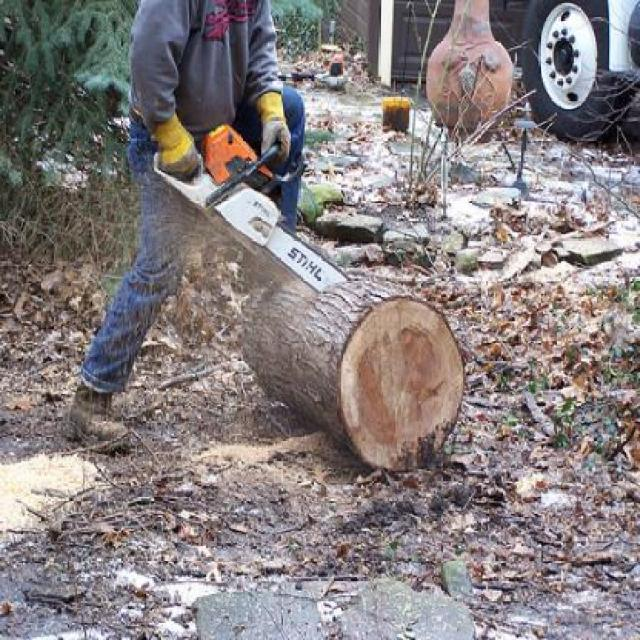Chainsaw: (152, 119, 356, 298)
